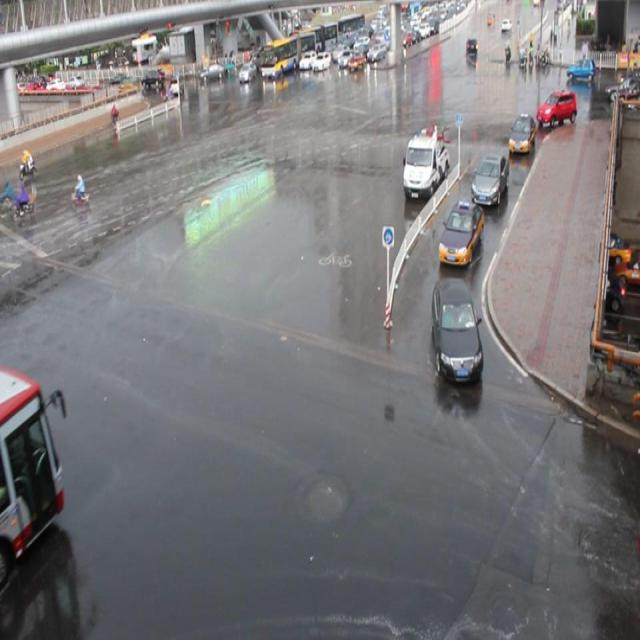bus: (402, 128, 449, 198)
car: (430, 276, 482, 381), (437, 198, 483, 265), (470, 152, 508, 207), (535, 90, 576, 128), (506, 111, 535, 154)
van: (0, 366, 64, 588)
